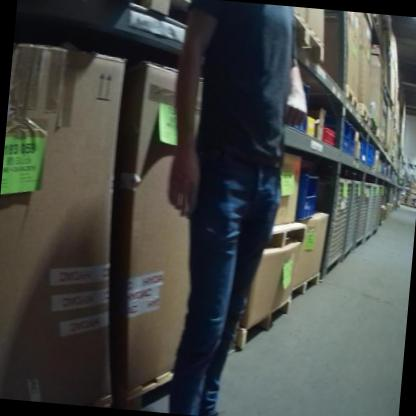pallet: (234, 289, 294, 362), (274, 11, 329, 62), (253, 214, 309, 260), (118, 373, 169, 409), (290, 266, 325, 304), (342, 86, 362, 119), (359, 103, 372, 127)
small_load_carrier: (294, 170, 324, 229), (283, 78, 314, 133), (316, 112, 352, 155), (346, 116, 358, 160), (355, 133, 367, 164), (363, 139, 372, 168), (368, 139, 376, 168)
stillage: (312, 174, 355, 283), (341, 178, 364, 264), (352, 183, 374, 253), (365, 183, 381, 244), (374, 185, 386, 234), (380, 183, 389, 229)
